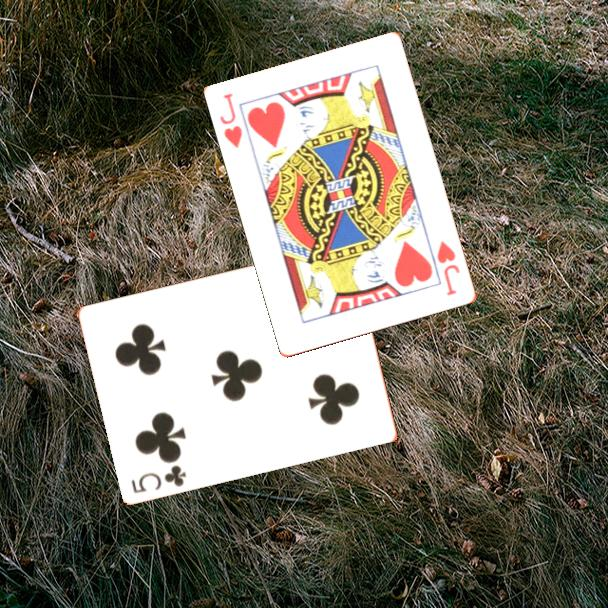c05: (128, 461, 189, 496)
h11: (434, 237, 463, 299), (217, 90, 245, 152)
